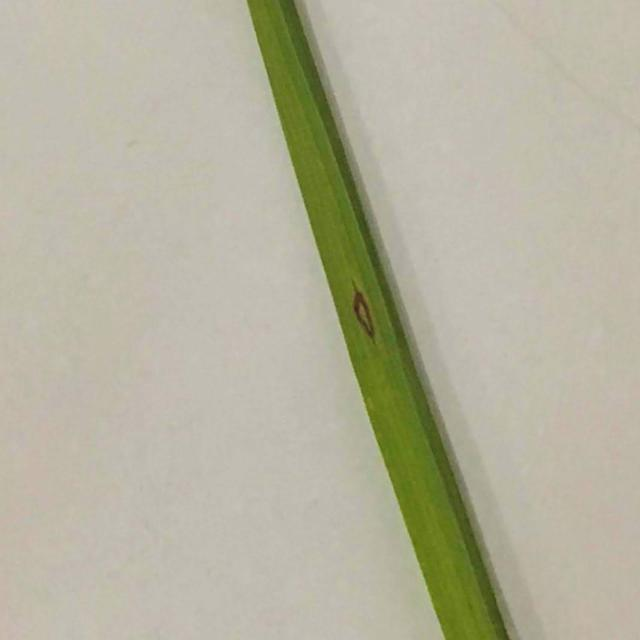Leaf blast: (230, 0, 528, 640)
